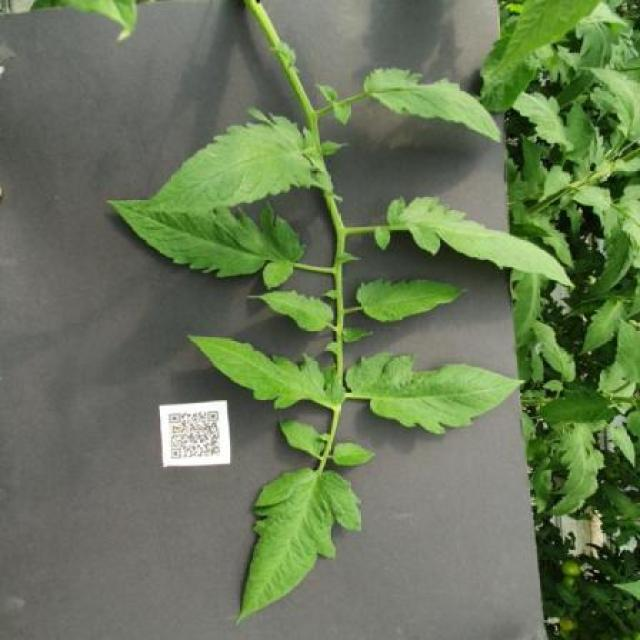Healthy: (237, 468, 362, 625), (136, 109, 321, 214), (375, 195, 575, 292), (105, 198, 306, 291), (343, 351, 526, 436), (187, 336, 344, 410), (362, 65, 507, 145), (356, 277, 469, 324), (245, 291, 335, 332)
